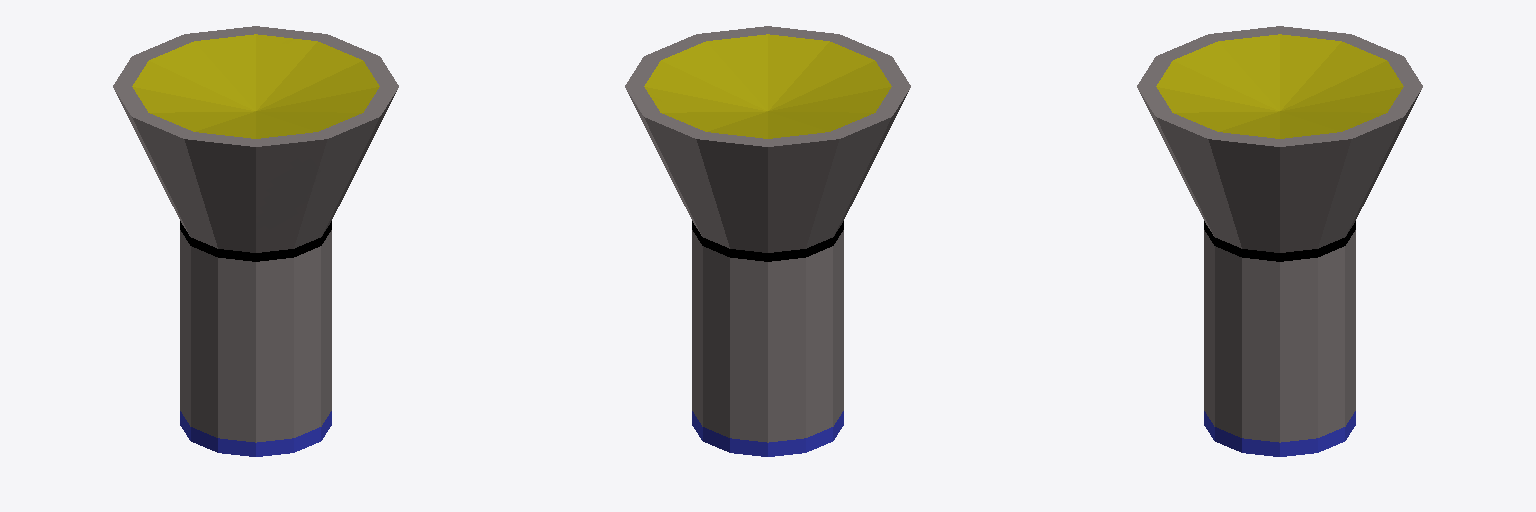
3 renders of one model, left to right at view 1: azimuth 30°, elevation 25°; view 2: azimuth 150°, elevation 25°; view 3: azimuth 270°, elevation 25°, orthographic.
Visible parts, largest first — view 1: Cylinder; view 2: Cylinder; view 3: Cylinder.
Part boxes in pixels (x1,y1,x2,y2): Cylinder: (113, 26, 398, 456); Cylinder: (625, 26, 910, 456); Cylinder: (1137, 26, 1422, 456).
Size of the model in its own units: 1.39 by 1.81 by 1.39.
Materials: 1 (1 with a texture image).